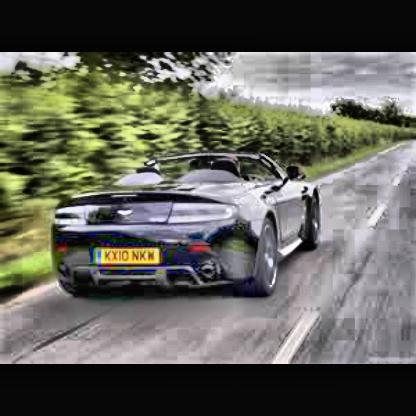Aston Martin V8 Vantage Convertible 2012: (55, 156, 324, 302)
